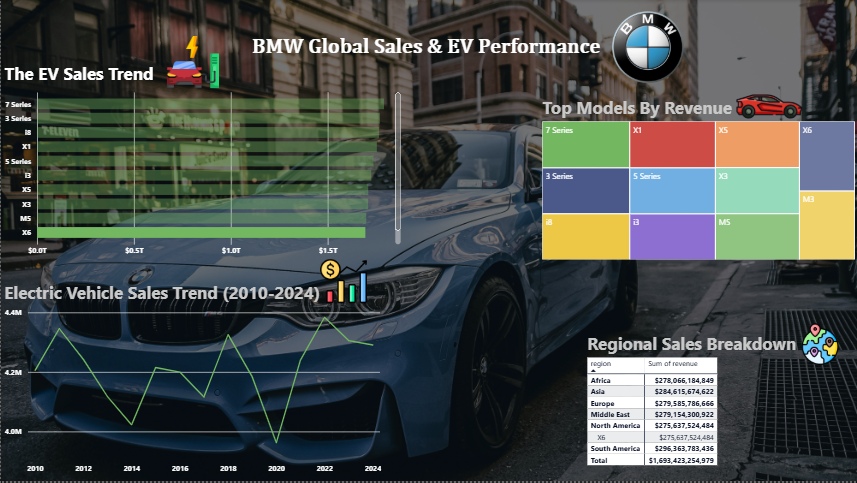

Layout of this report page (visuals, bound fields, positions):
{"tool":"powerbi","page":{"name":"Page 1","canvas":[1280,720],"ordinal":0},"visuals":[{"type":"lineChart","title":"Electric Vehicle Sales Trend (2010-2024)","fields":{"Category":["Q3_ev_sales.year"],"Y":["Sum(Q3_ev_sales.total_sales)"]},"box":[0,421.7,573.3,298.3],"z":0},{"type":"pivotTable","title":"Regional Sales Breakdown","fields":{"Rows":["Q2_model_sales.region","Q2_model_sales.model"],"Values":["Sum(Q2_model_sales.revenue)"]},"box":[871.3,498.1,323.3,221.9],"z":1000},{"type":"clusteredBarChart","title":"The EV Sales Trend","fields":{"Category":["Q2_model_sales.model"],"Y":["Sum(Q2_model_sales.revenue)"]},"box":[0,94.1,602,300.2],"z":2000},{"type":"treemap","title":"Top Models By Revenue","fields":{"Group":["Q2_model_sales.model"],"Values":["Sum(Q2_model_sales.revenue)"]},"box":[803.7,144.9,476.5,249.5],"z":3000},{"type":"textbox","box":[294.3,47.8,690.1,46.3],"z":4000},{"type":"image","box":[1166.7,479,113.1,72],"z":4001},{"type":"image","box":[449.6,380.9,124,80.7],"z":4002},{"type":"image","box":[197.2,47.8,179.3,92.6],"z":4003},{"type":"image","box":[1072.5,106.1,150.9,109],"z":4004},{"type":"image","box":[870.9,13.4,191.2,116.5],"z":4005}]}

Visuals, with their boxes in screenshot pixels (x1, y1, x2, y2), scaled from the page's 1280x720 canvas onto the 857x483 screenshot:
"Electric Vehicle Sales Trend (2010-2024)" lineChart: 0 283 384 482
"Regional Sales Breakdown" pivotTable: 583 334 800 482
"The EV Sales Trend" clusteredBarChart: 0 63 403 265
"Top Models By Revenue" treemap: 538 97 856 265
textbox: 197 32 659 63
image: 781 321 856 370
image: 301 256 384 310
image: 132 32 252 94
image: 718 71 819 144
image: 583 9 711 87
